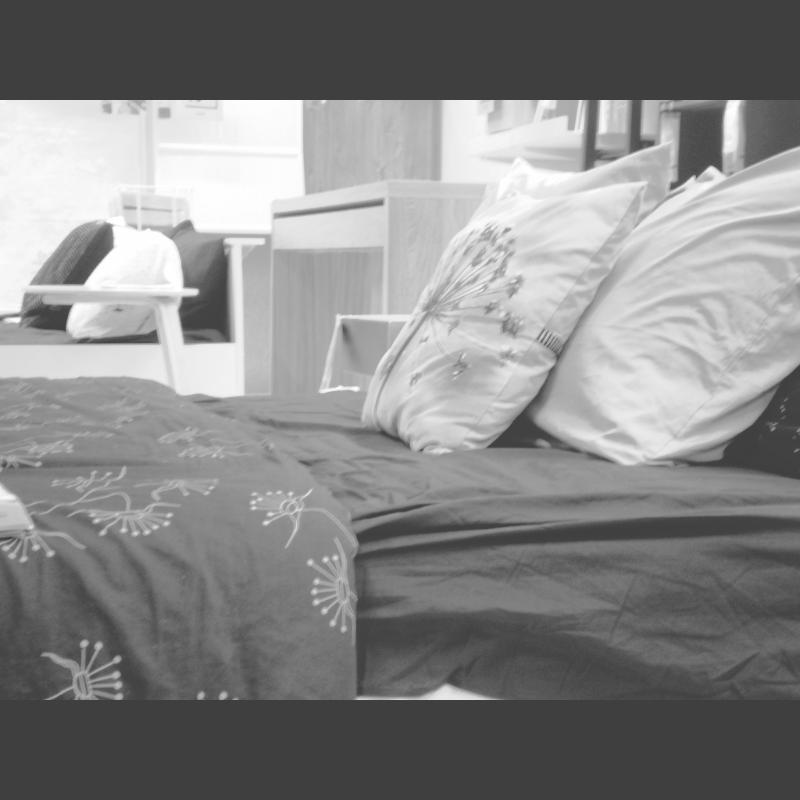pillow: (504, 140, 799, 472)
